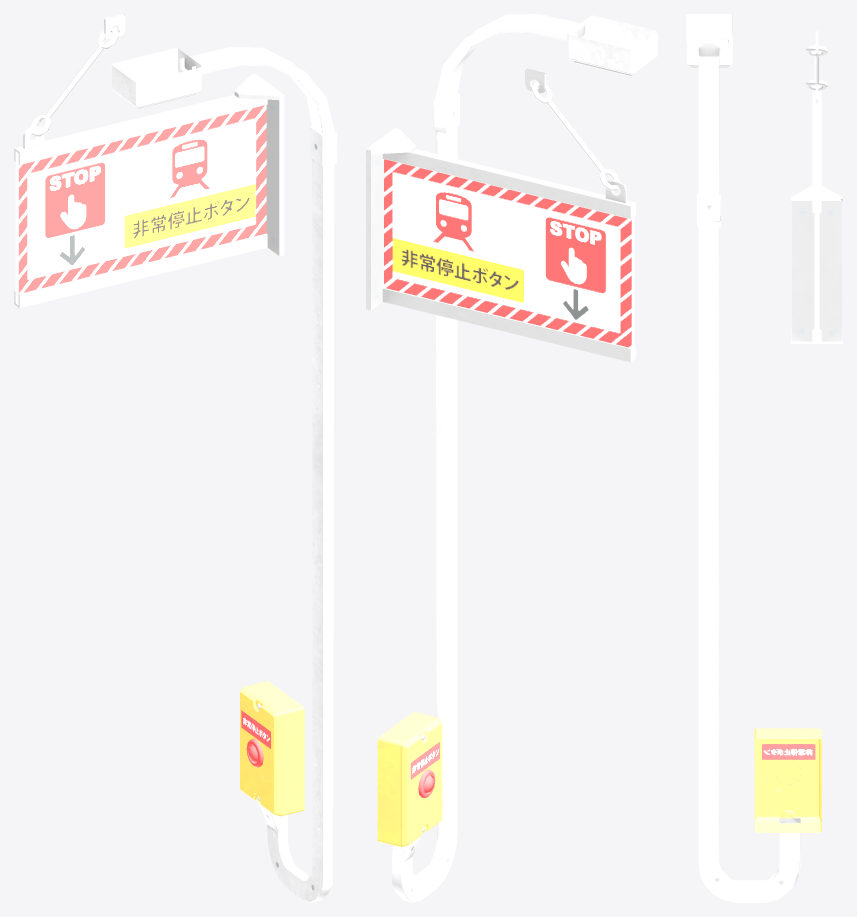
File: SM_Button_EmergencyStop_01.fbx
3 renders of one model, left to right at view 1: azimuth 30°, elevation 25°; view 2: azimuth 150°, elevation 25°; view 3: azimuth 270°, elevation 25°, orthographic. The views are drawn at different scales.
Parts seen in each view (by area): view 1: SM_Button_EmergencyStop_01_LOD0; view 2: SM_Button_EmergencyStop_01_LOD0; view 3: SM_Button_EmergencyStop_01_LOD0.
Boxes of the visible parts, x1,y1,x2,y2 form: SM_Button_EmergencyStop_01_LOD0: (14,14,337,902); SM_Button_EmergencyStop_01_LOD0: (366,14,657,902); SM_Button_EmergencyStop_01_LOD0: (686,14,842,902).
Bounding box in the file's own units: 51.12 × 30.24 × 170.
